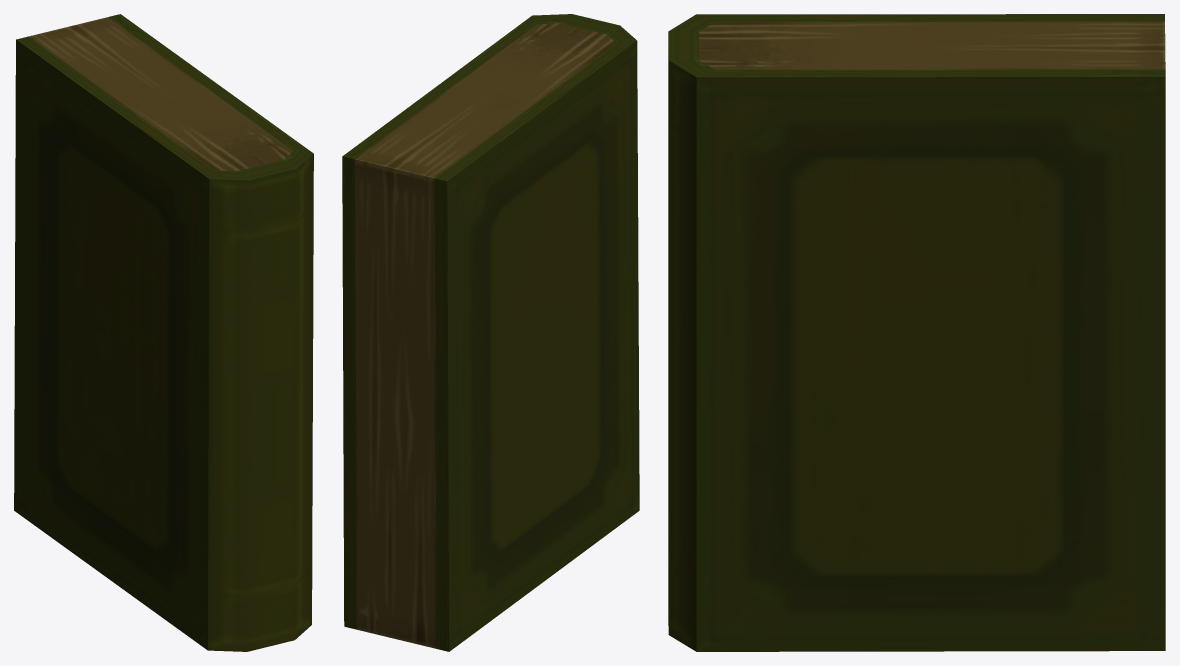
Rendered from Book_Simplified_Single.gltf.
3 views of the same model, side by side, from view 1: azimuth 30°, elevation 25°; view 2: azimuth 150°, elevation 25°; view 3: azimuth 270°, elevation 25° (orthographic). The views are drawn at different scales.
Visible parts, largest first — view 1: Book_Simplified_Single; view 2: Book_Simplified_Single; view 3: Book_Simplified_Single.
Part boxes in pixels (box(x1,y1,x2,y2)): Book_Simplified_Single: box(14, 14, 313, 651); Book_Simplified_Single: box(342, 14, 639, 651); Book_Simplified_Single: box(668, 14, 1165, 651).
Bounding box in the file's own units: 0.0646 × 0.2683 × 0.21.
Materials: 1 (1 with a texture image).
